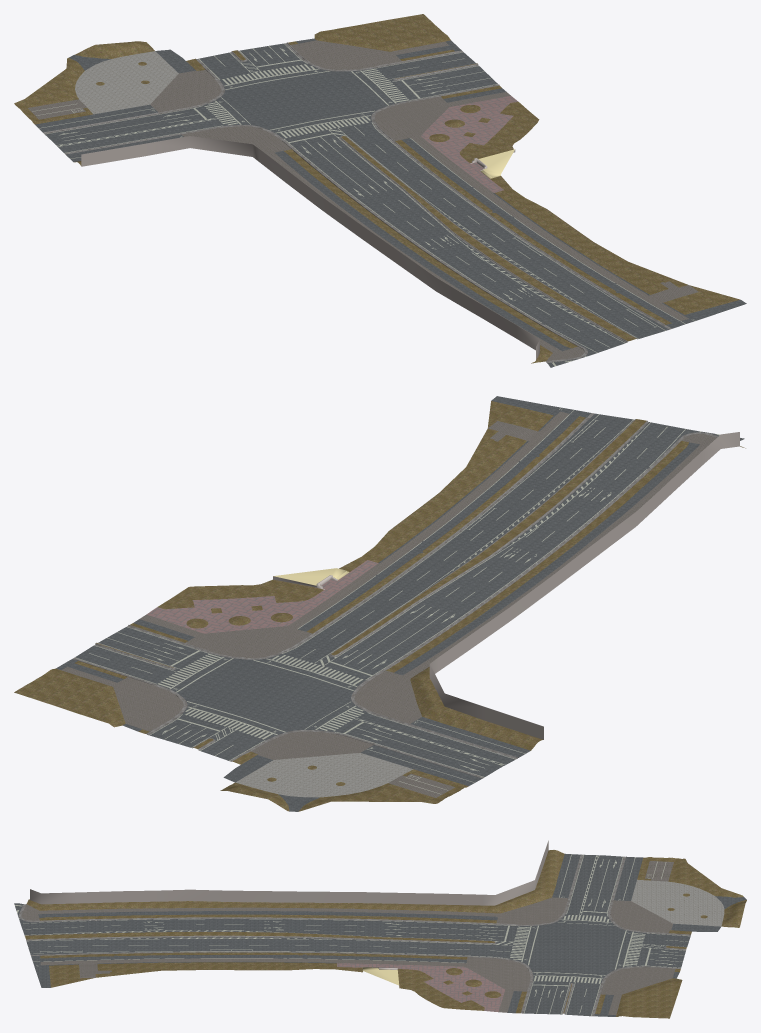
File: zimCreateArchive_Area05_Ground.fbx
3 views of the same model, one above another, from view 1: azimuth 30°, elevation 25°; view 2: azimuth 150°, elevation 25°; view 3: azimuth 270°, elevation 25° (orthographic). The views are drawn at different scales.
Parts seen in each view (by area): view 1: Ground-Road, Ground-Grass1, Ground-Path-GreyTile2, Ground-Path-DarkGrey, Ground-RoadMark, Ground-Wall-Const, Ground-Kerb, Ground-Paving-LightGrey, Ground-Paving-PinkGrey; view 2: Ground-Road, Ground-Grass1, Ground-Path-GreyTile2, Ground-Path-DarkGrey, Ground-RoadMark, Ground-Kerb, Ground-Wall-Const, Ground-Paving-LightGrey, Ground-Paving-PinkGrey; view 3: Ground-Road, Ground-Grass1, Ground-Path-GreyTile2, Ground-Path-DarkGrey, Ground-Wall-Const, Ground-RoadMark, Ground-Kerb, Ground-Paving-LightGrey, Ground-Paving-PinkGrey, Ground-Steps-WhiteYellow.
Boxes of the visible parts, left/top/right/bottom form: Ground-Road: left=45, top=43, right=669, bottom=367; Ground-Grass1: left=14, top=14, right=739, bottom=363; Ground-Path-GreyTile2: left=28, top=40, right=698, bottom=361; Ground-Path-DarkGrey: left=35, top=38, right=746, bottom=351; Ground-RoadMark: left=32, top=43, right=695, bottom=366; Ground-Wall-Const: left=81, top=136, right=539, bottom=359; Ground-Kerb: left=43, top=42, right=671, bottom=362; Ground-Paving-LightGrey: left=75, top=51, right=178, bottom=114; Ground-Paving-PinkGrey: left=421, top=96, right=517, bottom=192; Ground-Road: left=75, top=413, right=744, bottom=776; Ground-Grass1: left=14, top=401, right=745, bottom=811; Ground-Path-GreyTile2: left=61, top=411, right=716, bottom=797; Ground-Path-DarkGrey: left=56, top=396, right=699, bottom=811; Ground-RoadMark: left=75, top=408, right=719, bottom=794; Ground-Kerb: left=72, top=413, right=718, bottom=778; Ground-Wall-Const: left=429, top=432, right=739, bottom=739; Ground-Paving-LightGrey: left=235, top=753, right=412, bottom=797; Ground-Paving-PinkGrey: left=146, top=560, right=378, bottom=633; Ground-Road: left=14, top=854, right=690, bottom=1016; Ground-Grass1: left=25, top=850, right=746, bottom=1018; Ground-Path-GreyTile2: left=21, top=861, right=675, bottom=1014; Ground-Path-DarkGrey: left=31, top=853, right=746, bottom=1016; Ground-Wall-Const: left=30, top=840, right=548, bottom=905; Ground-RoadMark: left=14, top=854, right=690, bottom=1015; Ground-Kerb: left=18, top=854, right=690, bottom=1016; Ground-Paving-LightGrey: left=631, top=879, right=724, bottom=926; Ground-Paving-PinkGrey: left=337, top=963, right=505, bottom=1011; Ground-Steps-WhiteYellow: left=362, top=967, right=399, bottom=985.
Bounding box in the file's own units: 97.48 × 182 × 5.65.
Materials: 10 (10 with a texture image).
